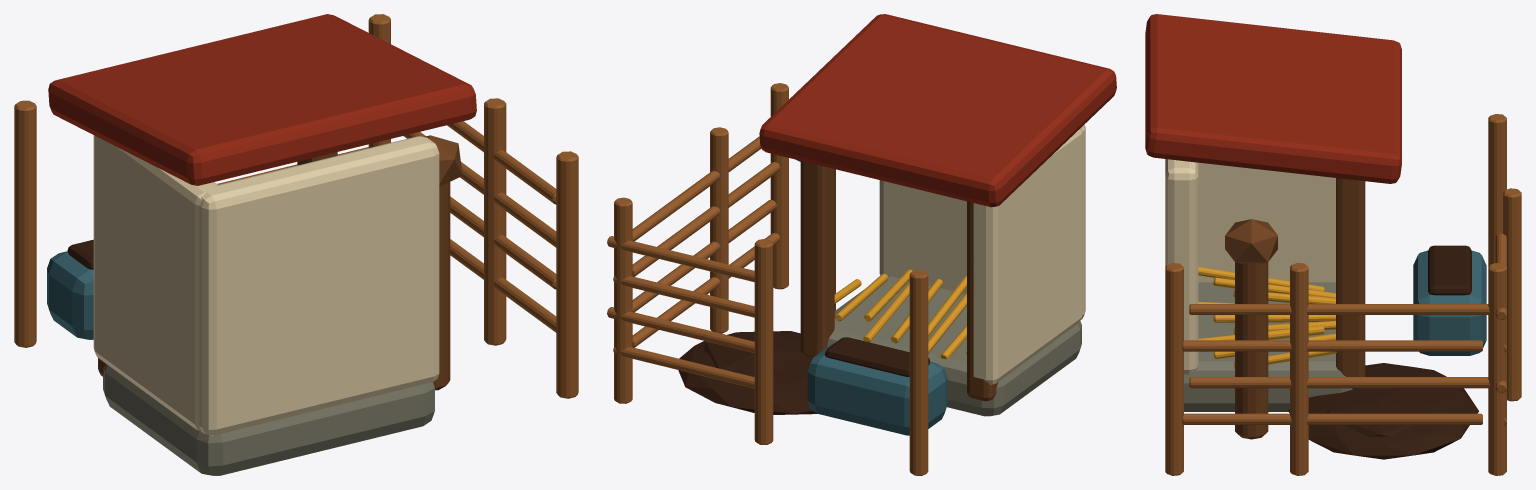
Rendered from PigletPen.glb.
The picture shows the model from 3 angles, left to right: view 1: azimuth 30°, elevation 25°; view 2: azimuth 150°, elevation 25°; view 3: azimuth 270°, elevation 25°; orthographic projection. The views are drawn at different scales.
Parts seen in each view (by area): view 1: PigletPen_Limewash, PigletPen_Roof, PigletPen_Wattle, PigletPen_Stone, PigletPen_Wood, PigletPen_Trough; view 2: PigletPen_Roof, PigletPen_Wattle, PigletPen_Limewash, PigletPen_Stone, PigletPen_Wood, PigletPen_Mud, PigletPen_Trough, PigletPen_Straw; view 3: PigletPen_Roof, PigletPen_Wattle, PigletPen_Limewash, PigletPen_Wood, PigletPen_Mud, PigletPen_Stone, PigletPen_Trough, PigletPen_Straw.
Part boxes in pixels (box(x1,y1,x2,y2)): PigletPen_Limewash: box(93, 135, 439, 435); PigletPen_Roof: box(48, 14, 476, 185); PigletPen_Wattle: box(14, 14, 578, 398); PigletPen_Stone: box(103, 364, 434, 475); PigletPen_Wood: box(98, 135, 462, 390); PigletPen_Trough: box(47, 251, 93, 339); PigletPen_Roof: box(759, 14, 1116, 207); PigletPen_Wattle: box(607, 83, 928, 475); PigletPen_Limewash: box(879, 124, 1085, 384); PigletPen_Stone: box(827, 276, 1081, 416); PigletPen_Wood: box(796, 159, 998, 401); PigletPen_Mud: box(678, 331, 930, 414); PigletPen_Trough: box(807, 343, 947, 435); PigletPen_Straw: box(834, 269, 966, 359); PigletPen_Roof: box(1145, 14, 1401, 183); PigletPen_Wattle: box(1165, 114, 1521, 475); PigletPen_Limewash: box(1165, 159, 1335, 374); PigletPen_Wood: box(1225, 178, 1365, 439); PigletPen_Mud: box(1288, 245, 1478, 459); PigletPen_Stone: box(1184, 282, 1352, 411); PigletPen_Trough: box(1413, 250, 1486, 355); PigletPen_Straw: box(1198, 267, 1336, 368).
Bounding box in the file's own units: 1.1 × 0.9093 × 1.03.
